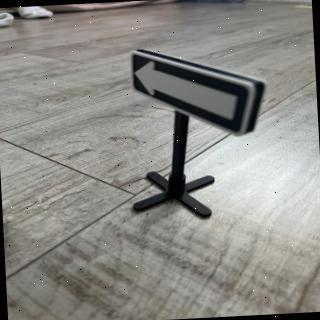sign_oneway_left: (130, 42, 271, 144)
